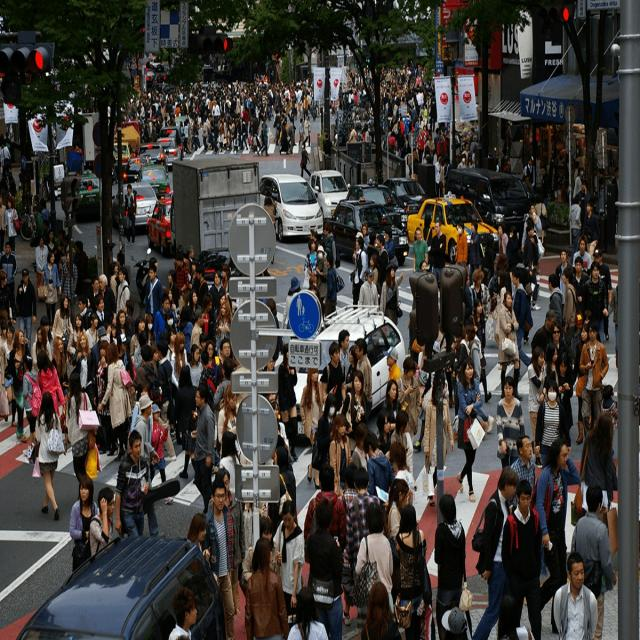body: (74, 61, 500, 168), (534, 439, 585, 639), (502, 115, 620, 194), (471, 464, 520, 640), (569, 482, 618, 639), (501, 478, 542, 640), (432, 492, 472, 640), (579, 412, 619, 556), (208, 464, 246, 615), (392, 502, 433, 640), (353, 500, 396, 630), (306, 496, 344, 640), (203, 476, 236, 640), (96, 338, 138, 462), (240, 534, 287, 639), (66, 370, 103, 500), (302, 462, 348, 564), (455, 354, 485, 504), (272, 499, 306, 630), (423, 373, 455, 508), (133, 392, 162, 539), (383, 476, 415, 609), (552, 550, 599, 640), (34, 389, 65, 523), (115, 428, 151, 538), (578, 319, 609, 439), (394, 355, 420, 494), (346, 465, 380, 570), (423, 370, 452, 491), (464, 323, 495, 435), (191, 382, 216, 515), (534, 379, 572, 466), (496, 289, 524, 402), (68, 474, 99, 574), (524, 343, 548, 471), (6, 326, 32, 442), (495, 374, 526, 471), (299, 367, 323, 490), (174, 363, 198, 484), (510, 266, 534, 382), (578, 322, 600, 448), (278, 342, 300, 464), (243, 516, 283, 582), (468, 296, 492, 406), (155, 338, 177, 456), (266, 294, 284, 436), (362, 432, 394, 510), (150, 403, 174, 506), (507, 432, 537, 511), (360, 580, 399, 640), (286, 586, 329, 640), (126, 379, 155, 457), (14, 266, 38, 356), (36, 349, 67, 418), (273, 444, 299, 526), (327, 413, 352, 498), (494, 593, 540, 639), (20, 353, 40, 458), (592, 247, 614, 342), (346, 368, 369, 458), (37, 250, 62, 332), (70, 328, 96, 406), (93, 339, 110, 456), (89, 486, 115, 560), (217, 382, 241, 462), (16, 152, 50, 208), (321, 340, 347, 412), (522, 216, 544, 300), (556, 348, 574, 448), (555, 248, 574, 341), (41, 250, 62, 333), (378, 262, 404, 329), (470, 268, 491, 350), (388, 441, 414, 507), (167, 585, 198, 640), (523, 224, 542, 312), (2, 324, 18, 428), (353, 337, 373, 420), (390, 409, 414, 478), (212, 356, 236, 424), (316, 392, 338, 464), (560, 265, 578, 348), (60, 248, 78, 330), (0, 240, 17, 326), (493, 268, 507, 370), (51, 335, 70, 407), (281, 275, 302, 340), (380, 378, 403, 436), (142, 262, 164, 322), (352, 236, 368, 318), (429, 219, 447, 291), (50, 294, 74, 347), (604, 283, 618, 373), (153, 294, 176, 348), (187, 512, 211, 563), (520, 202, 543, 253), (323, 252, 338, 330), (488, 252, 512, 300), (213, 298, 233, 355), (148, 342, 163, 418), (514, 248, 533, 308), (548, 273, 564, 344), (315, 245, 329, 323), (352, 230, 366, 306), (376, 408, 396, 461), (534, 192, 550, 258), (600, 199, 621, 249), (98, 274, 117, 328), (582, 200, 598, 264), (3, 197, 20, 257), (116, 332, 136, 383), (376, 234, 390, 306), (599, 383, 619, 433), (352, 427, 374, 472), (31, 328, 53, 372), (172, 330, 188, 390), (570, 253, 590, 301), (91, 325, 109, 377), (302, 238, 320, 290), (543, 342, 562, 390), (123, 183, 137, 247), (114, 308, 128, 372), (441, 606, 468, 639), (463, 314, 483, 358), (572, 234, 592, 278), (337, 328, 352, 386), (34, 235, 50, 289), (412, 226, 430, 274), (570, 194, 582, 266), (358, 267, 380, 306), (173, 250, 190, 300), (216, 338, 232, 391), (74, 240, 89, 296), (507, 224, 519, 294), (130, 314, 146, 366), (469, 220, 481, 288), (186, 343, 204, 388), (116, 266, 131, 318), (344, 344, 359, 396), (483, 233, 497, 288), (198, 290, 214, 338), (422, 212, 434, 274), (384, 226, 399, 275), (454, 220, 468, 272), (322, 221, 336, 271), (209, 269, 225, 312), (93, 294, 111, 331), (40, 314, 54, 360), (186, 287, 202, 327), (386, 345, 403, 382), (87, 275, 103, 314), (115, 250, 131, 289), (0, 268, 11, 324), (195, 266, 210, 307), (140, 343, 157, 379), (78, 294, 94, 332), (46, 229, 60, 272), (30, 205, 44, 247), (72, 313, 88, 349), (2, 122, 28, 144), (85, 311, 100, 349), (220, 263, 232, 310), (307, 272, 323, 306), (108, 259, 120, 304), (167, 268, 180, 309), (162, 308, 178, 341), (298, 141, 312, 178), (213, 292, 228, 326), (496, 223, 510, 259), (123, 298, 136, 336), (0, 139, 12, 179), (361, 222, 371, 270), (143, 313, 157, 346), (165, 287, 179, 319), (264, 190, 278, 222), (143, 256, 160, 282), (367, 230, 378, 270), (204, 338, 217, 370), (166, 325, 177, 362), (466, 273, 474, 319), (0, 195, 6, 256), (185, 244, 195, 277), (369, 253, 379, 286), (190, 260, 200, 288), (309, 228, 320, 252), (0, 322, 7, 354), (418, 258, 431, 274), (42, 208, 52, 228), (198, 331, 208, 350), (71, 240, 76, 262)
